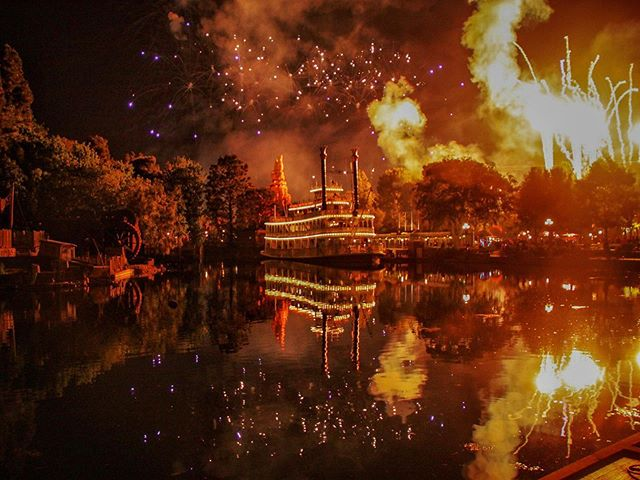boat: (255, 172, 394, 271)
fireworks: (116, 1, 458, 136), (482, 33, 640, 190)
river: (1, 258, 640, 480)
smoke: (460, 1, 569, 133), (360, 80, 471, 157)
tree: (418, 157, 513, 246), (508, 160, 578, 246), (570, 160, 640, 246), (200, 156, 256, 243)
